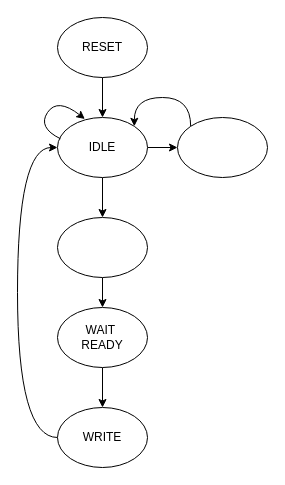
Some shapes in this 285 by 485 pixel diagram are drawn without their labels. The shapes that lost their labels are listed below. From the top down, each one's centre as x and y in pixels, then its label:
(x=222, y=147): READ
(x=102, y=247): PREPARE DATA
